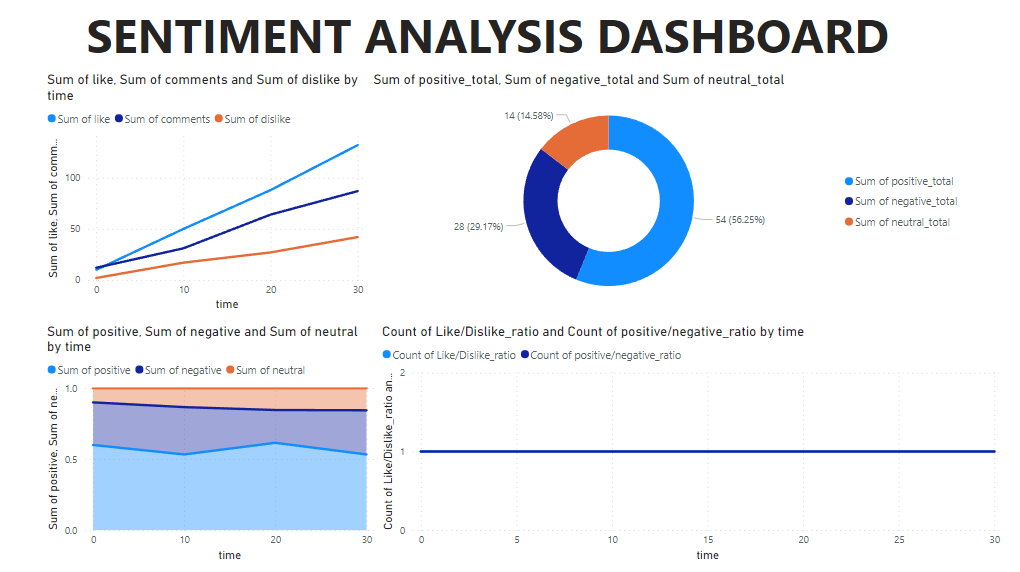

The dashboard page shown, as its layout file describes it:
{"tool":"powerbi","page":{"name":"Page 1","canvas":[1280,720],"ordinal":0},"visuals":[{"type":"textbox","box":[9.6,0,1205.1,100.1],"z":0},{"type":"donutChart","fields":{"Y":["Sum(Sheet2 (2).positive_total)","Sum(Sheet2 (2).negative_total)","Sum(Sheet2 (2).neutral_total)"]},"box":[464.8,90.5,750,304.4],"z":1000},{"type":"lineChart","fields":{"Category":["Sheet4.time"],"Y":["Sum(Sheet3 (2).like)","Sum(Sheet4.comments)","Sum(Sheet3 (2).dislike)"]},"box":[56.2,90.5,408.6,304.4],"z":2000},{"type":"stackedAreaChart","fields":{"Category":["Sheet2 (2).time"],"Y":["Sum(Sheet2 (2).positive)","Sum(Sheet2 (2).negative)","Sum(Sheet2 (2).neutral)"]},"box":[56.2,404.5,419.5,303],"z":3000},{"type":"lineChart","fields":{"Y":["CountNonNull(Sheet3 (2).Like/Dislike_ratio)","CountNonNull(Sheet2.positive/negative_ratio)"],"Category":["Sheet2.time"]},"box":[475.8,404.5,785.6,303],"z":4000}]}

Visuals, with their boxes in screenshot pixels (x1, y1, x2, y2), scaled from the page's 1280x720 canvas onto the 1020x572 screenshot:
textbox: <region>8, 0, 968, 80</region>
donutChart - Sum(Sheet2 (2).positive_total) x Sum(Sheet2 (2).negative_total): <region>370, 72, 968, 314</region>
lineChart - Sheet4.time x Sum(Sheet3 (2).like): <region>45, 72, 370, 314</region>
stackedAreaChart - Sheet2 (2).time x Sum(Sheet2 (2).positive): <region>45, 321, 379, 562</region>
lineChart - CountNonNull(Sheet3 (2).Like/Dislike_ratio) x CountNonNull(Sheet2.positive/negative_ratio): <region>379, 321, 1005, 562</region>
